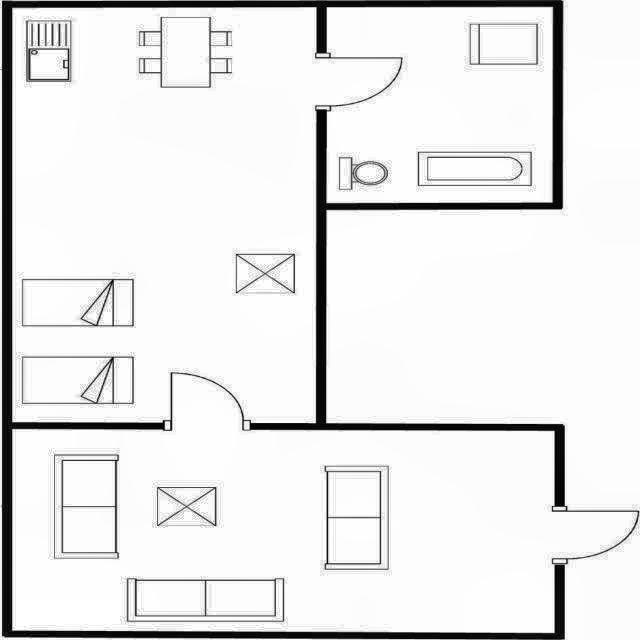room: (13, 8, 316, 423), (12, 429, 554, 633), (327, 7, 552, 203)
